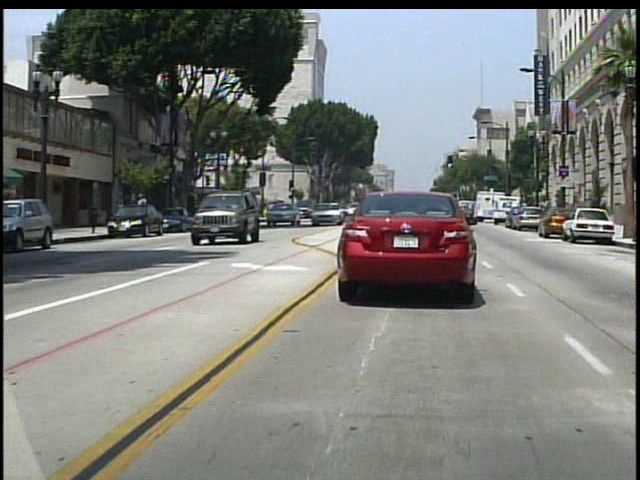person: (140, 192, 154, 225)
